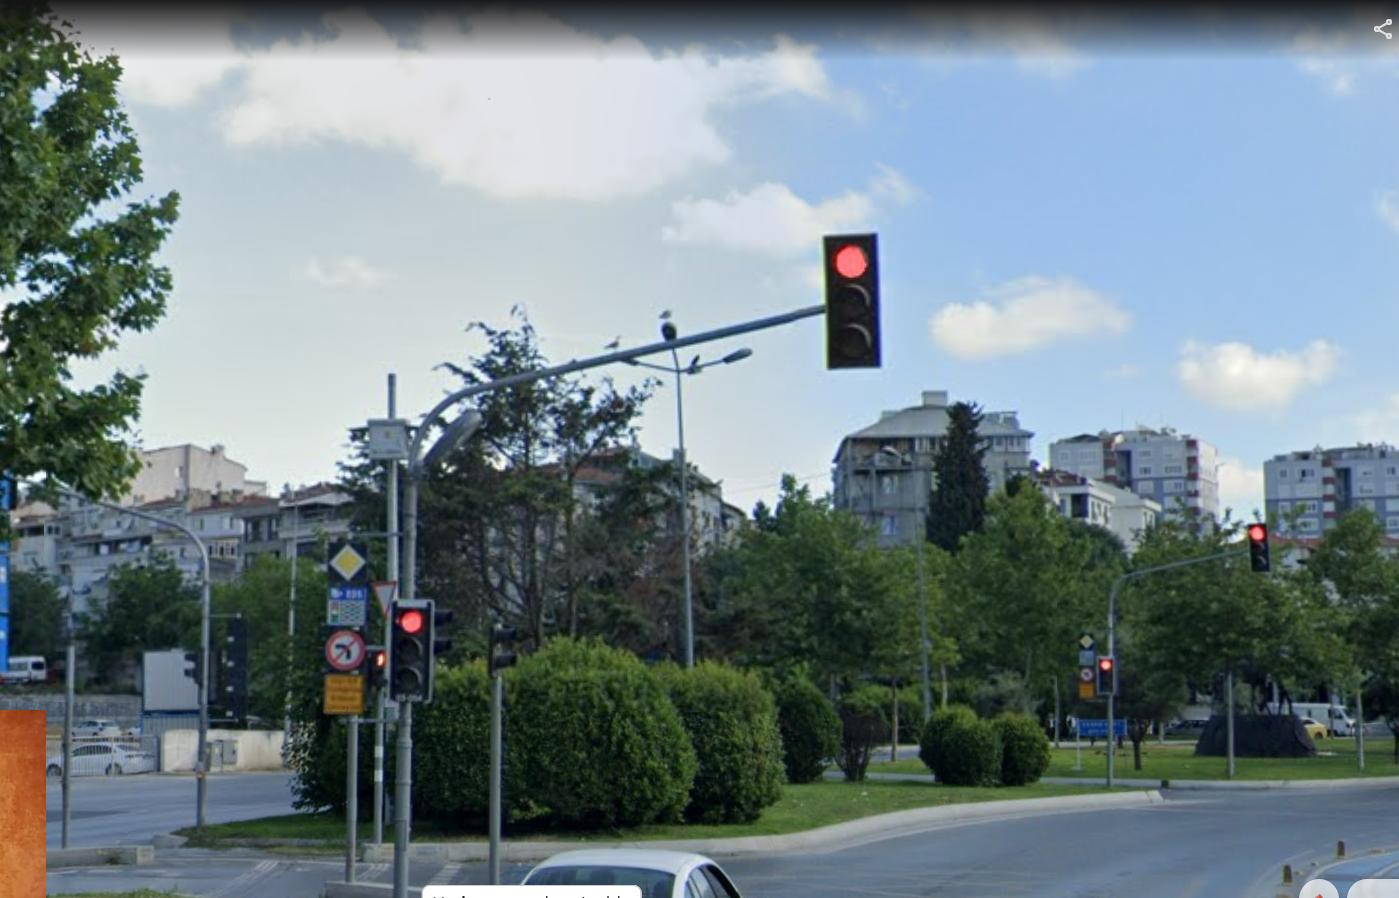leftturnsareforbidden: (326, 629, 363, 672), (1080, 669, 1094, 683)
redlight: (823, 231, 881, 364), (385, 597, 433, 703), (1248, 523, 1273, 575), (1100, 655, 1116, 694)
